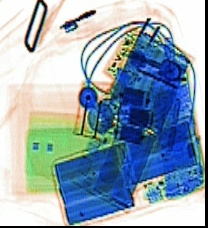powerbank: (69, 27, 195, 211), (49, 113, 203, 225)
